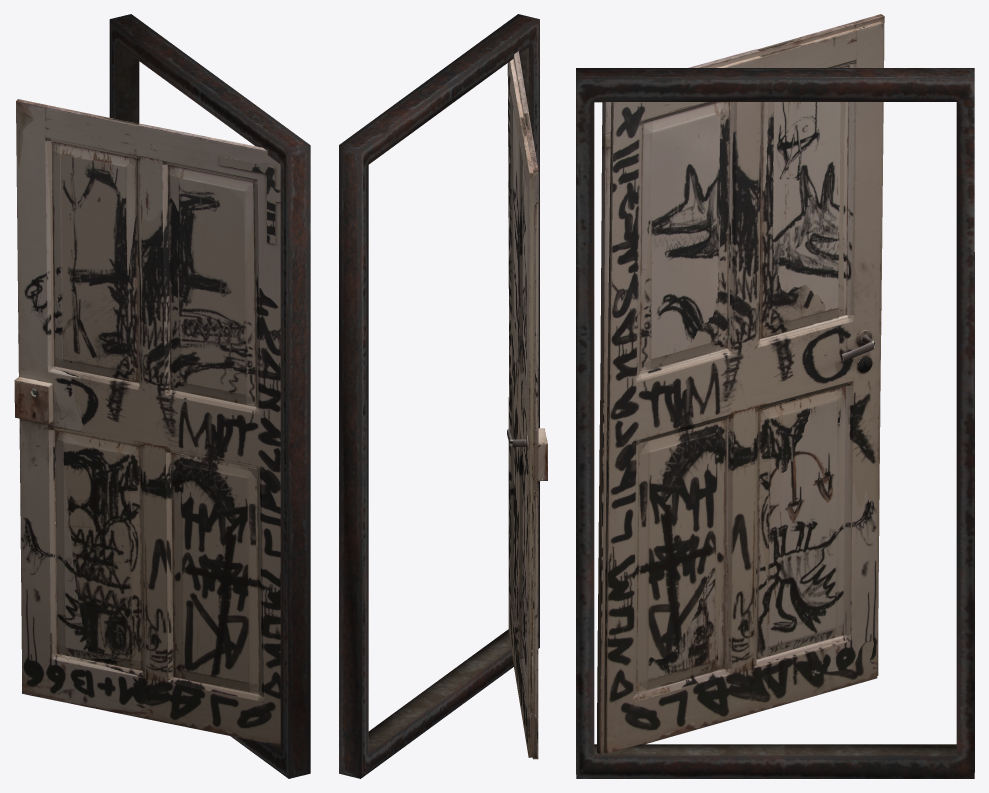
The model's file is DoorRetopo.glb.
The picture shows the model from 3 angles, left to right: view 1: azimuth 30°, elevation 25°; view 2: azimuth 150°, elevation 25°; view 3: azimuth 270°, elevation 25°; orthographic projection. The views are drawn at different scales.
Parts seen in each view (by area): view 1: Plane.002, Object_3.001; view 2: Object_3.001, Plane.002; view 3: Plane.002, Object_3.001.
Part boxes in pixels (bbox=[...]): Plane.002: bbox=[14, 99, 280, 744]; Object_3.001: bbox=[109, 14, 310, 778]; Object_3.001: bbox=[339, 14, 539, 778]; Plane.002: bbox=[507, 51, 547, 759]; Plane.002: bbox=[597, 14, 884, 754]; Object_3.001: bbox=[576, 68, 974, 778].
Bounding box in the file's own units: 1.07 × 3.94 × 2.04.
2 materials, 2 textured.
